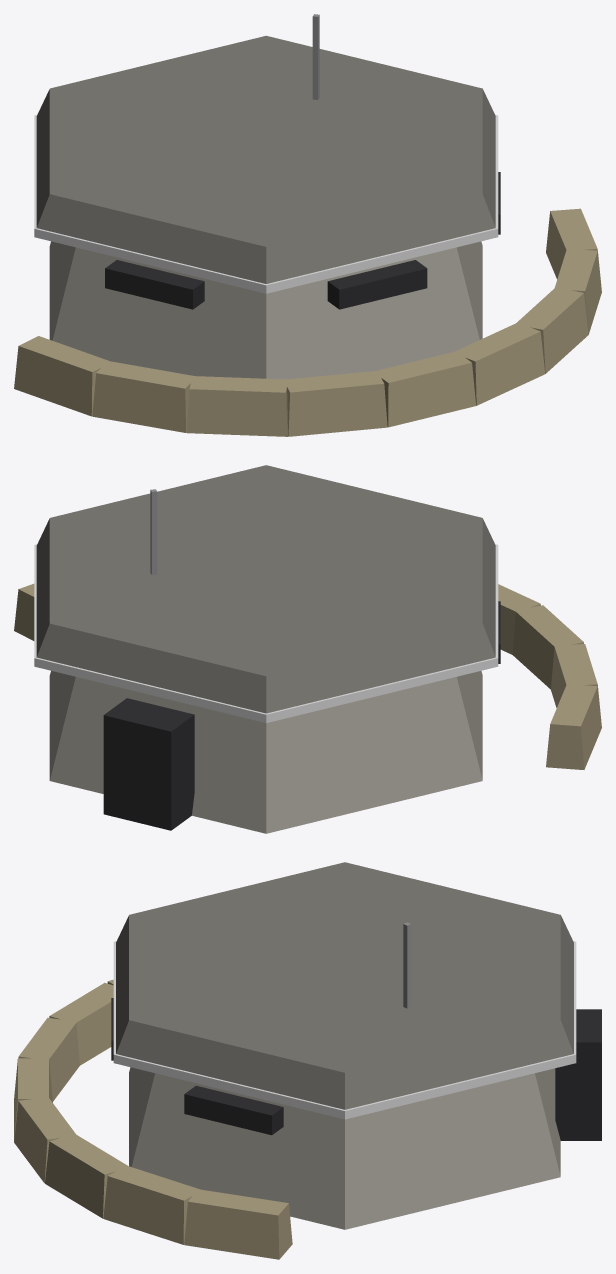
File: bunker.glb
3 views of the same model, one above another, from view 1: azimuth 30°, elevation 25°; view 2: azimuth 150°, elevation 25°; view 3: azimuth 270°, elevation 25° (orthographic).
Parts seen in each view (by area): view 1: Body; view 2: Body; view 3: Body.
Part boxes in pixels (bbox=[...]): Body: bbox=[14, 14, 601, 436]; Body: bbox=[14, 465, 601, 833]; Body: bbox=[14, 862, 601, 1259].
Bounding box in the file's own units: 8.43 × 3.4 × 7.55.
